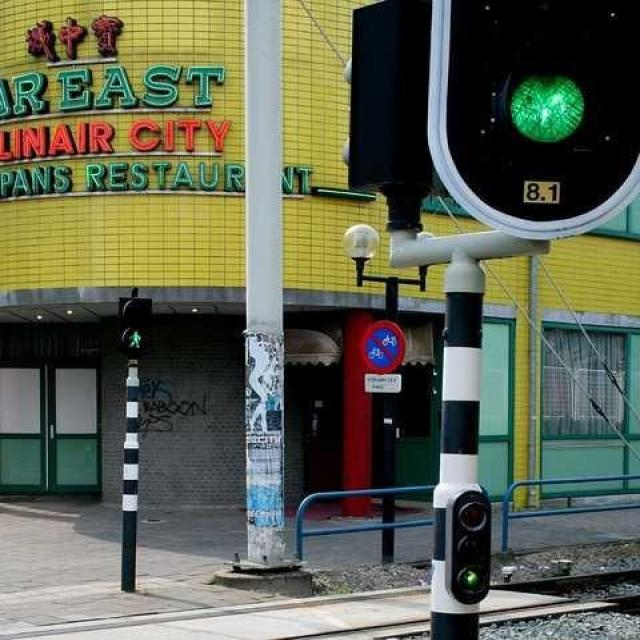Traffic Light -Green-: (450, 492, 496, 610)
